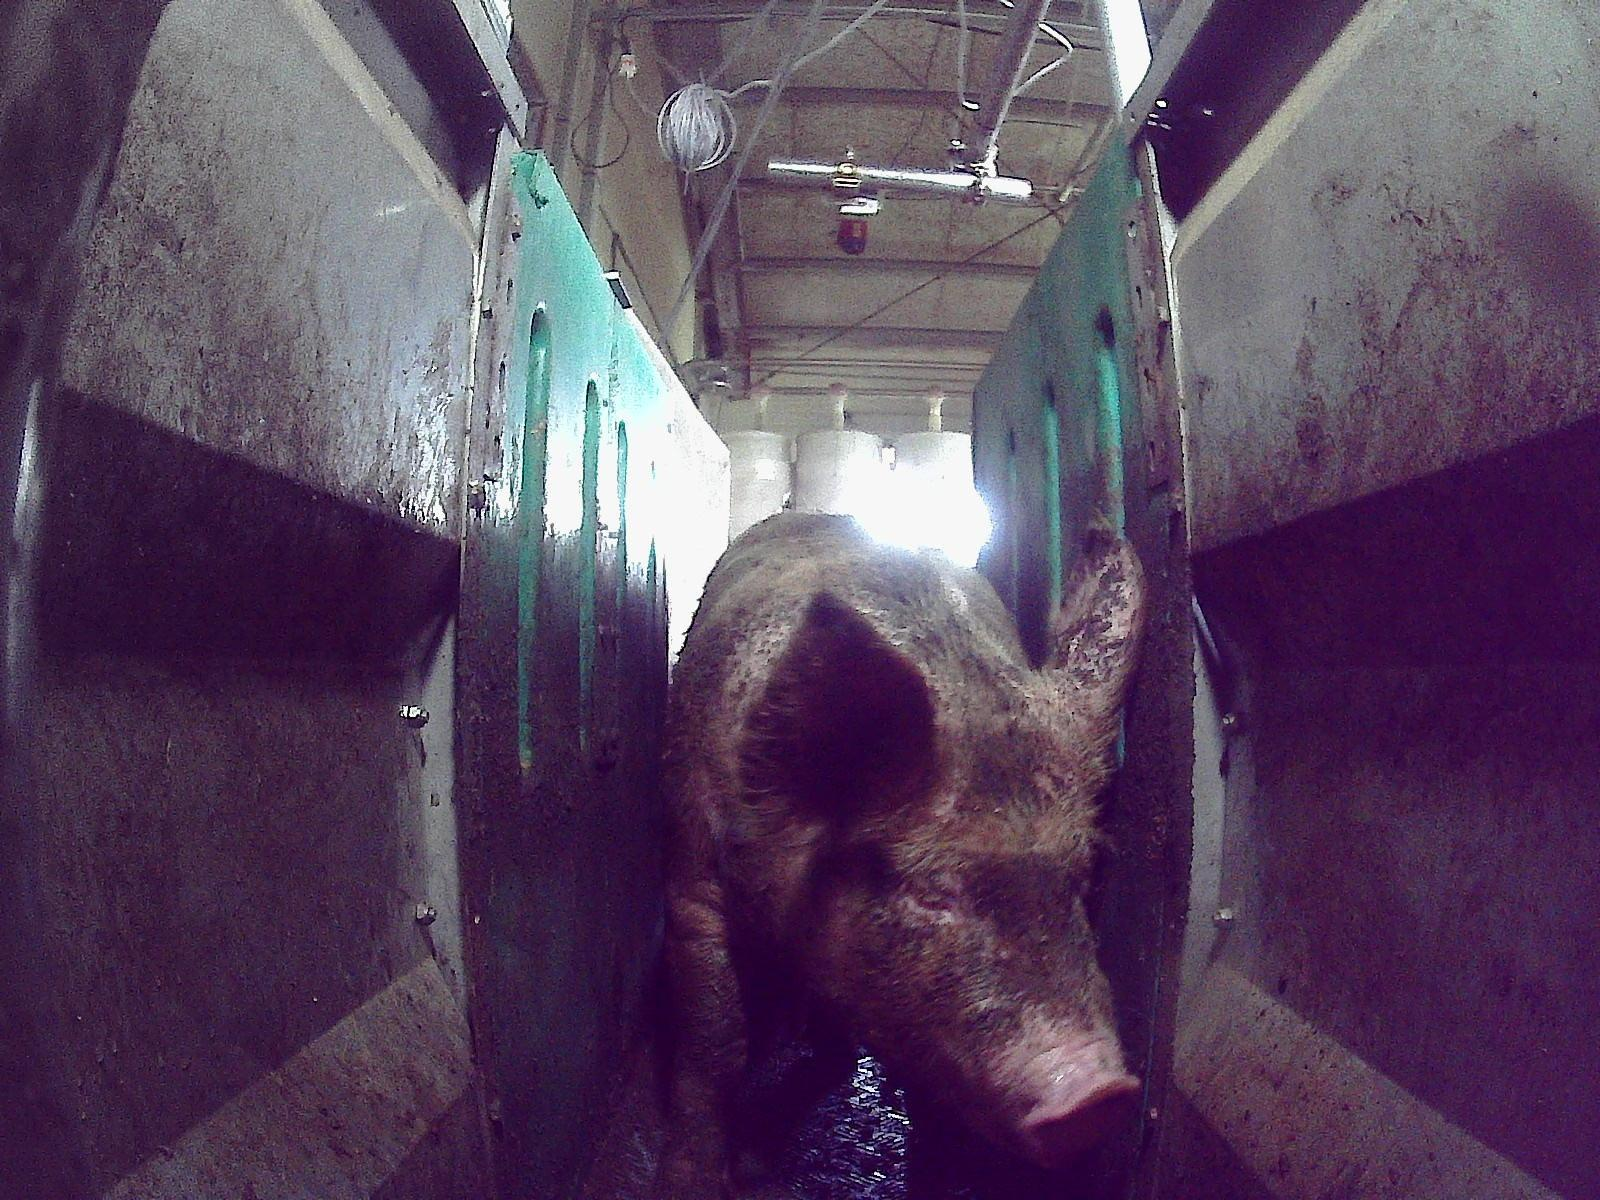Face: (810, 682, 1144, 1166)
